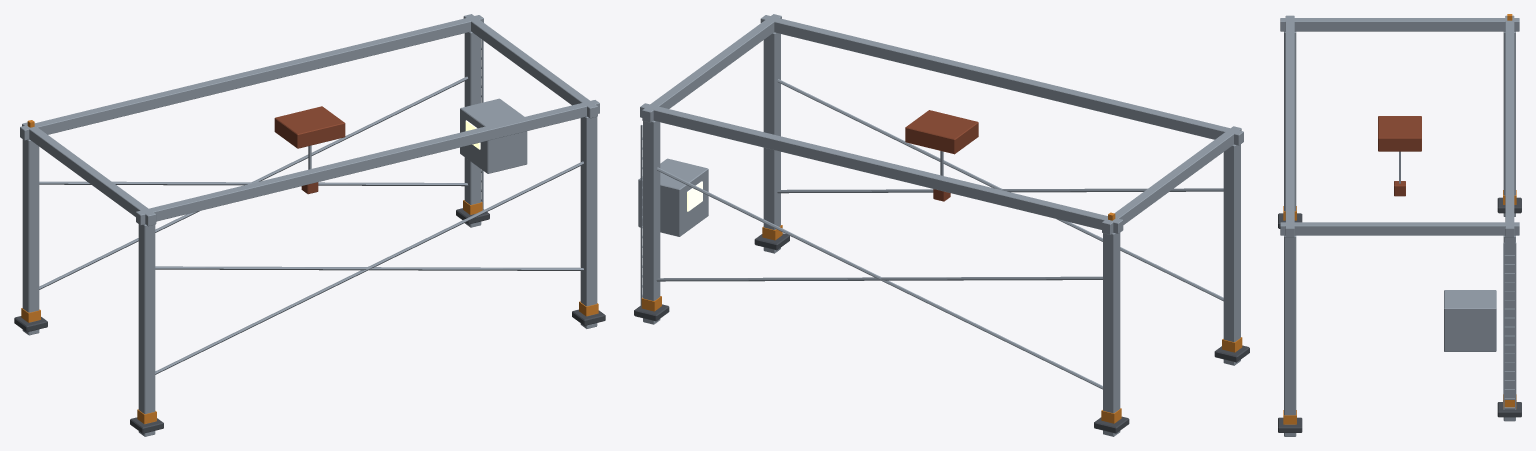
File: DepotCrane_-2_-2.fbx
The picture shows the model from 3 angles, left to right: view 1: azimuth 30°, elevation 25°; view 2: azimuth 150°, elevation 25°; view 3: azimuth 270°, elevation 25°; orthographic projection. The views are drawn at different scales.
Visible parts, largest first — view 1: DepotCrane_-2_-2; view 2: DepotCrane_-2_-2; view 3: DepotCrane_-2_-2.
Part boxes in pixels (left/top/right/bottom): DepotCrane_-2_-2: left=14, top=14, right=605, bottom=436; DepotCrane_-2_-2: left=634, top=14, right=1249, bottom=436; DepotCrane_-2_-2: left=1278, top=14, right=1521, bottom=436.
Bounding box in the file's own units: 2355 × 1083 × 1110.
